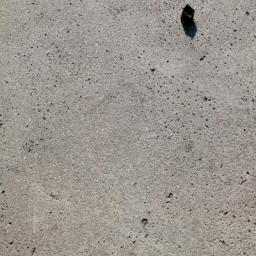FOD: (178, 4, 203, 39)
